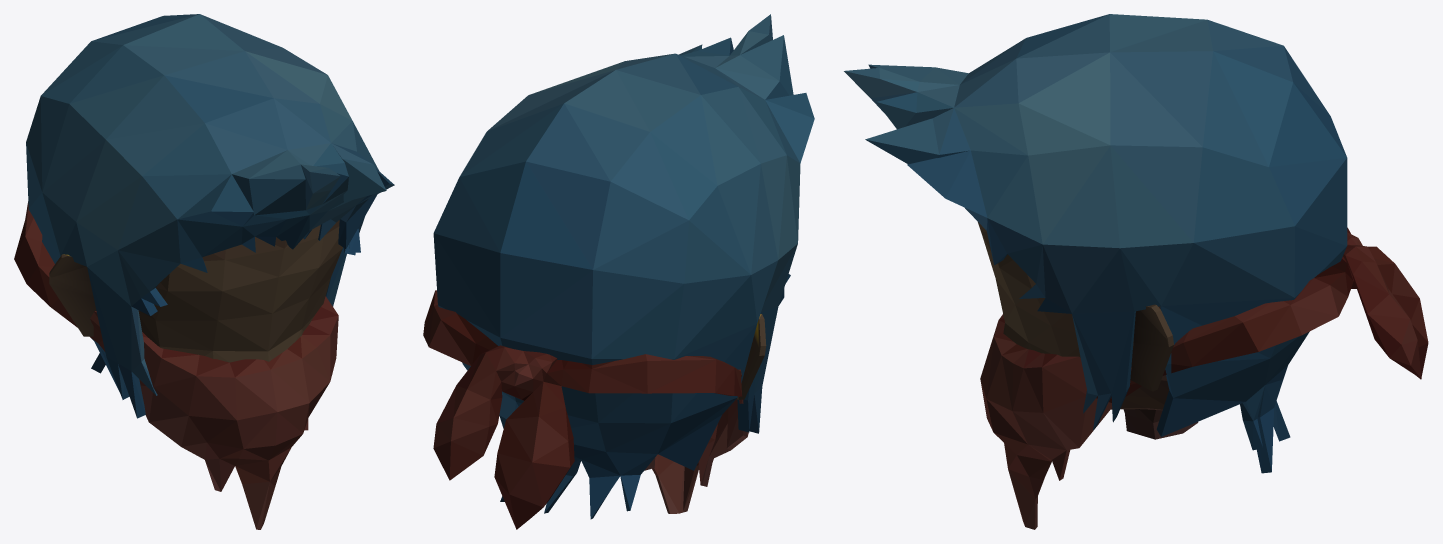
The model's file is helm_darkskin_standard_blue_bandana.fbx.
3 views of the same model, side by side, from view 1: azimuth 30°, elevation 25°; view 2: azimuth 150°, elevation 25°; view 3: azimuth 270°, elevation 25° (orthographic). The views are drawn at different scales.
Parts seen in each view (by area): view 1: helm_darkskin_standard_blue_bandana; view 2: helm_darkskin_standard_blue_bandana; view 3: helm_darkskin_standard_blue_bandana.
Part boxes in pixels (left/top/right/bottom): helm_darkskin_standard_blue_bandana: left=14, top=14, right=394, bottom=529; helm_darkskin_standard_blue_bandana: left=423, top=14, right=814, bottom=529; helm_darkskin_standard_blue_bandana: left=844, top=14, right=1428, bottom=529.
Bounding box in the file's own units: 1.13 × 1.66 × 1.8.
